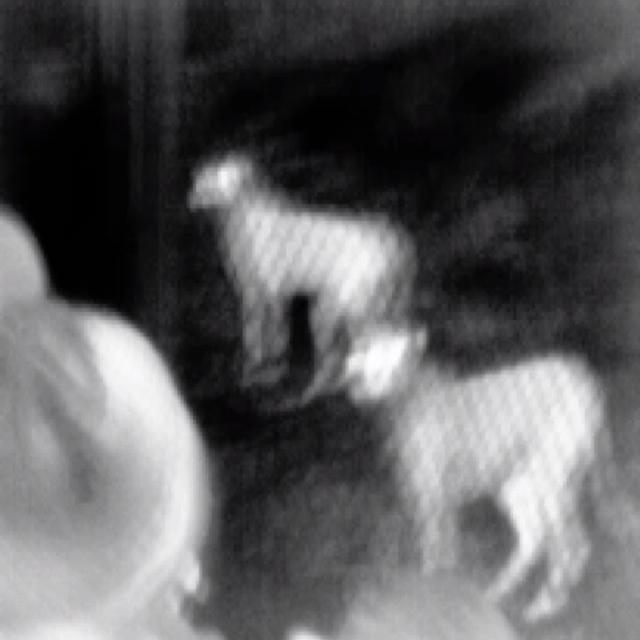cheetah: (346, 328, 606, 621), (190, 153, 409, 391)
